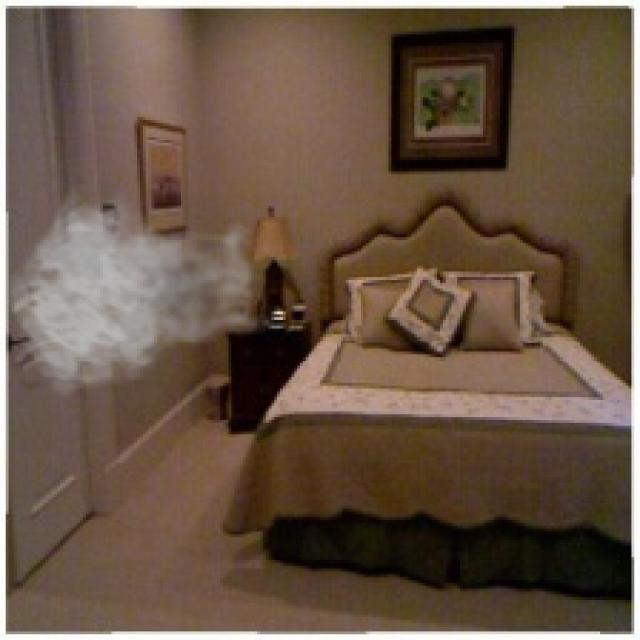smoke: (6, 186, 274, 397)
